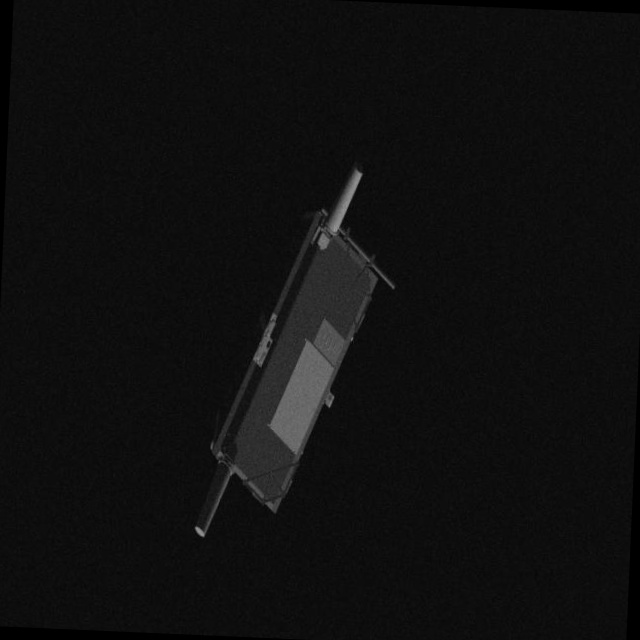satellite: (188, 149, 407, 561)
